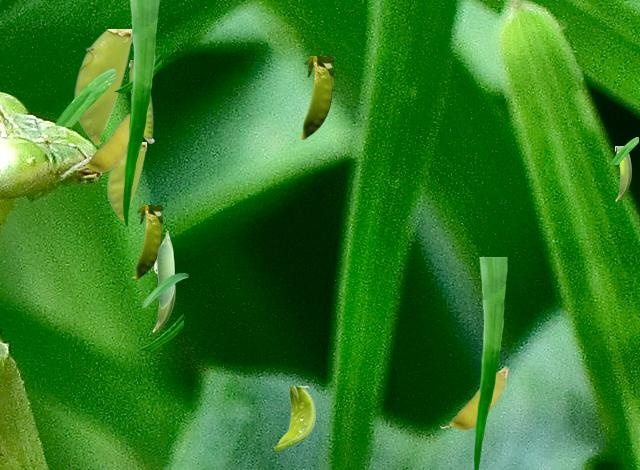pea: (74, 29, 131, 144), (440, 366, 507, 429), (75, 114, 129, 171), (107, 142, 145, 219), (297, 56, 332, 138), (273, 386, 314, 449), (131, 205, 161, 278), (129, 60, 153, 142), (152, 261, 175, 331), (157, 230, 173, 307), (615, 146, 632, 200)
